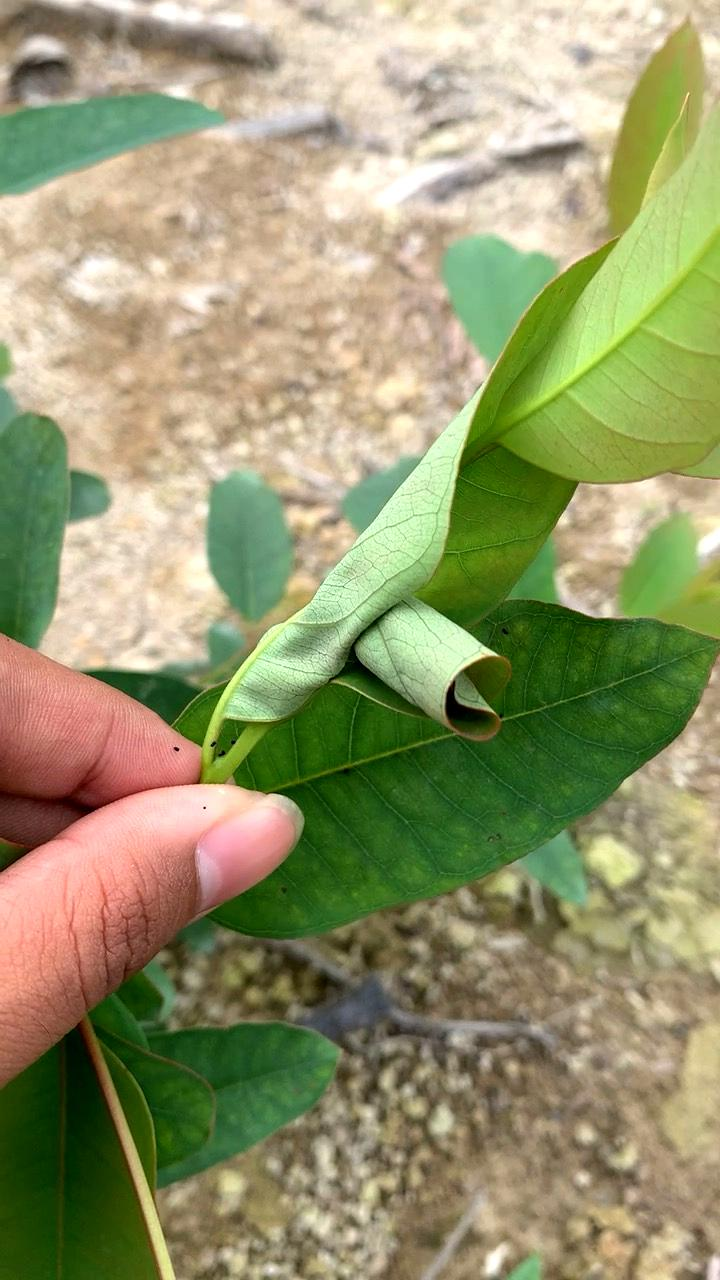Leaf Roller - Leaf: (281, 536, 537, 780)
